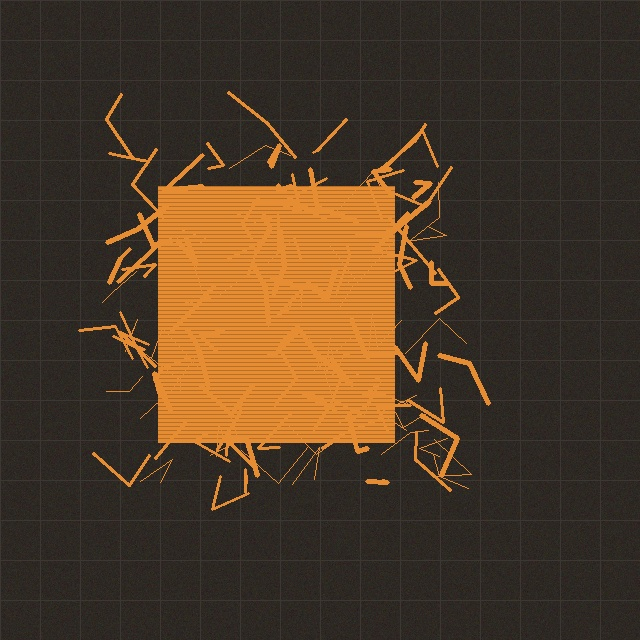spaghetti: (118, 136, 454, 492)
